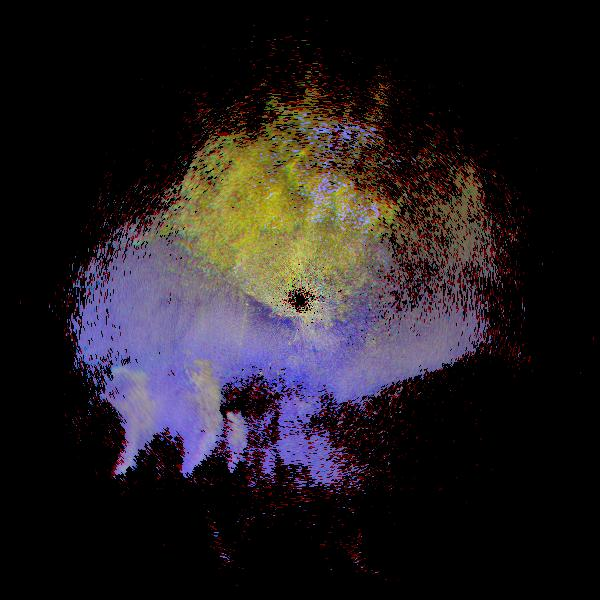roost: (109, 360, 232, 483), (64, 393, 151, 480)
